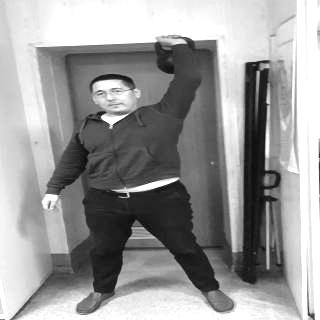kettlebell: (156, 37, 197, 75)
